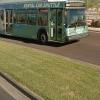Bus: (1, 0, 91, 46)
